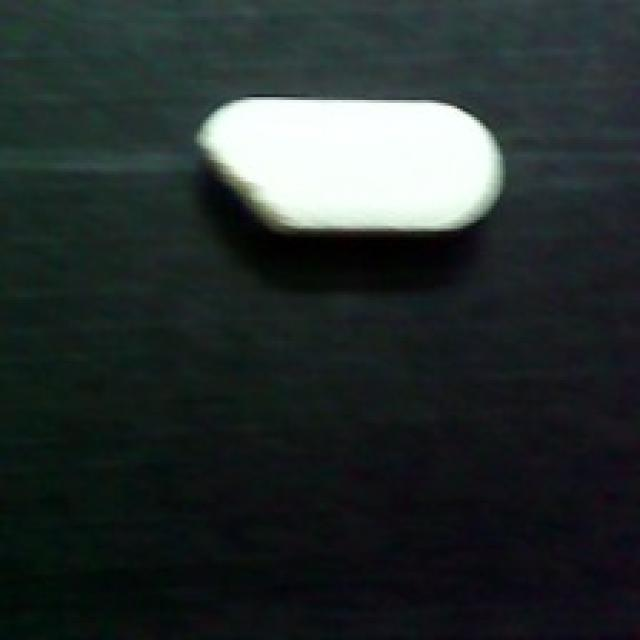defected: (166, 86, 509, 249)
